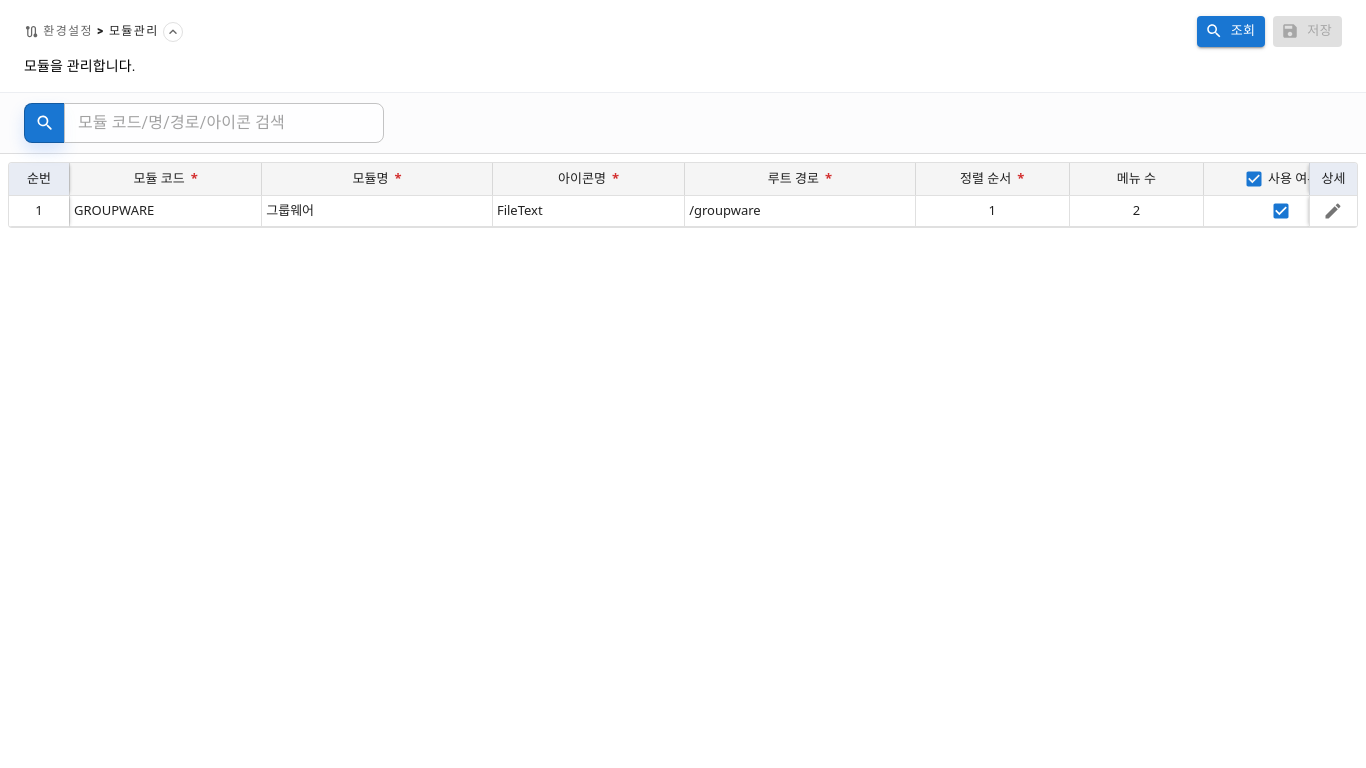
Test: ModuleManagementPage › guards a dirty module grid refresh with the shared confirmation dialog
Double-click the cell "그룹웨어" at (377, 211), box x1=261 y1=195 x2=492 y2=227
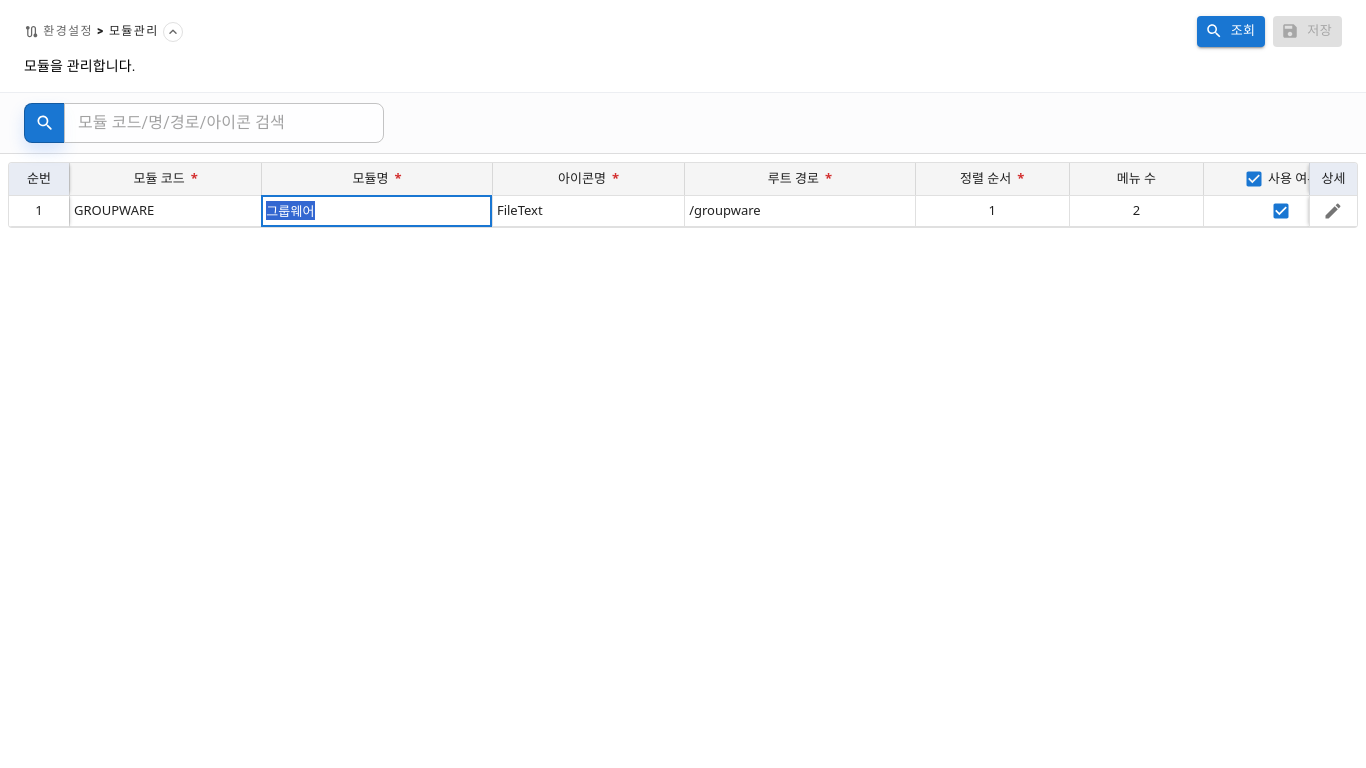
Replace the text in the field showing "그룹웨어" with "그룹웨어 편집" at (377, 211), box x1=266 y1=200 x2=488 y2=222
Press Enter in the field showing "그룹웨어 편집", box x1=266 y1=200 x2=488 y2=222
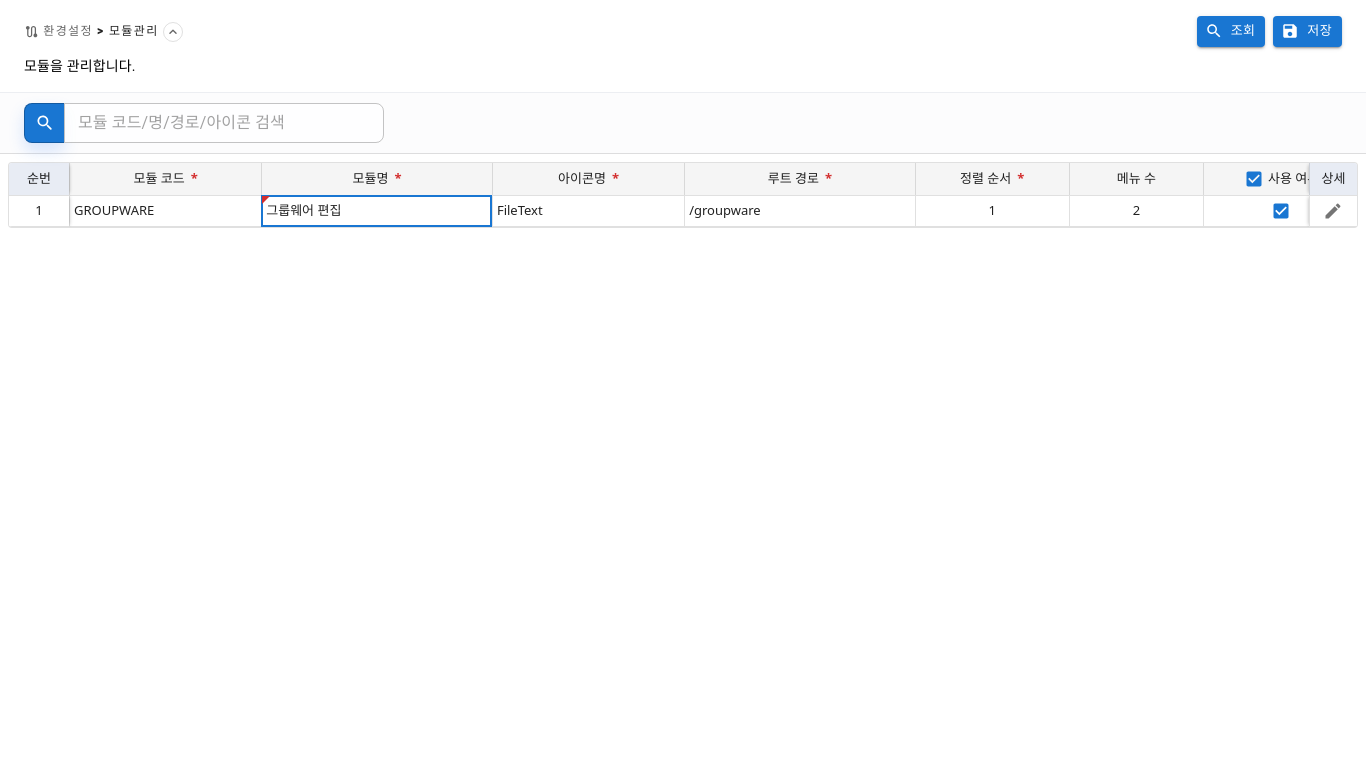
Click the button "조회" at (1231, 31), box x1=1197 y1=16 x2=1265 y2=47
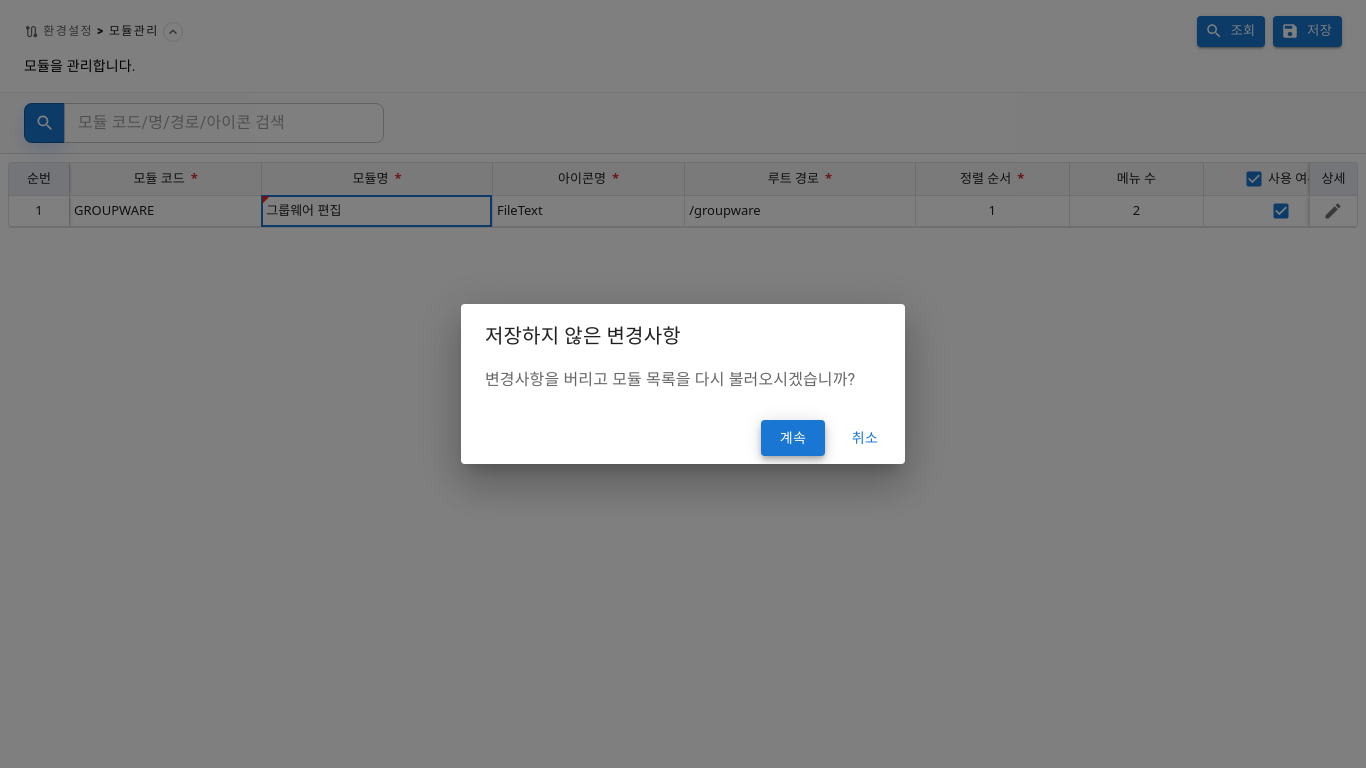
Expected: the dialog "저장하지 않은 변경사항" shows "변경사항을 버리고 모듈 목록을 다시 불러오시겠습니까?", x1=485 y1=370 x2=855 y2=389
Click the button "취소" at (865, 438), box x1=833 y1=420 x2=897 y2=456
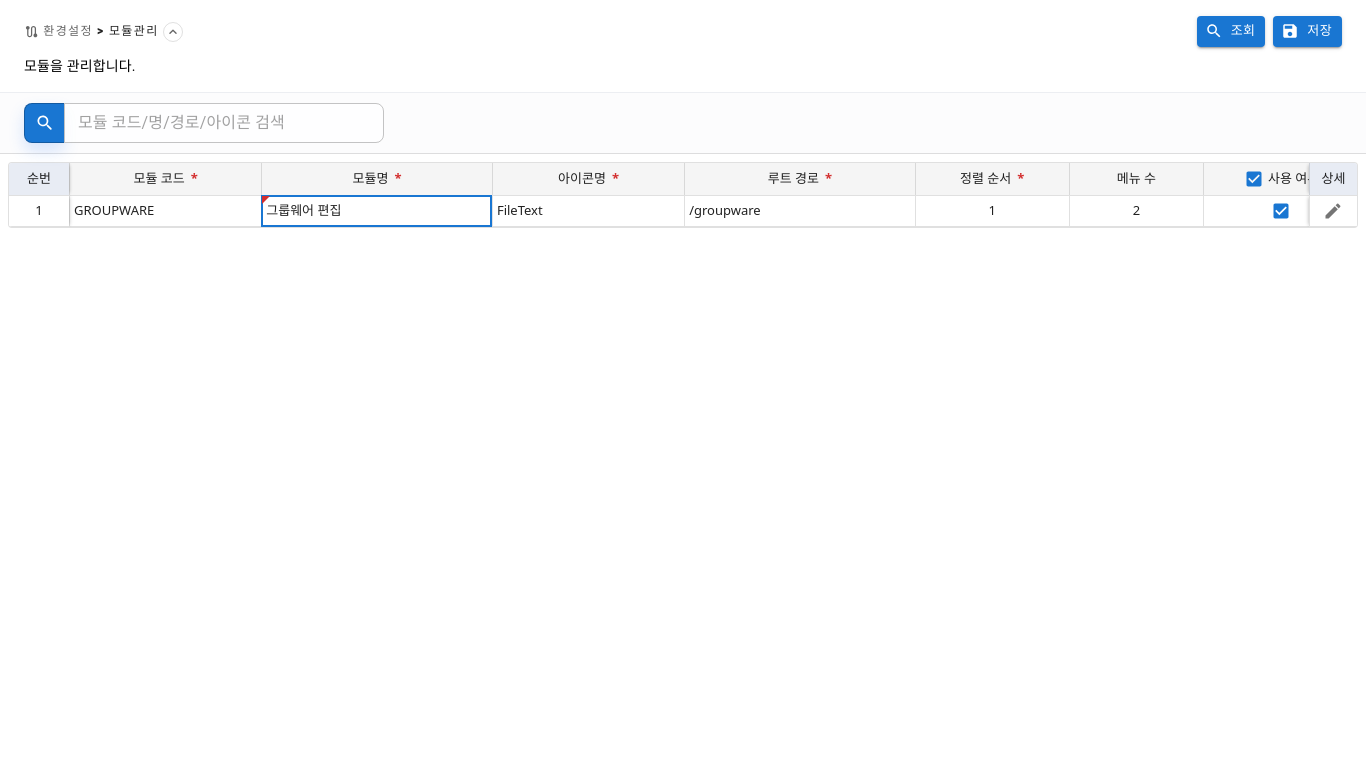
Expected: the cell "그룹웨어 편집" is shown, x1=262 y1=196 x2=341 y2=219
Expected: the heading "저장하지 않은 변경사항" is gone
Click the button "조회" at (1231, 31), box x1=1197 y1=16 x2=1265 y2=47
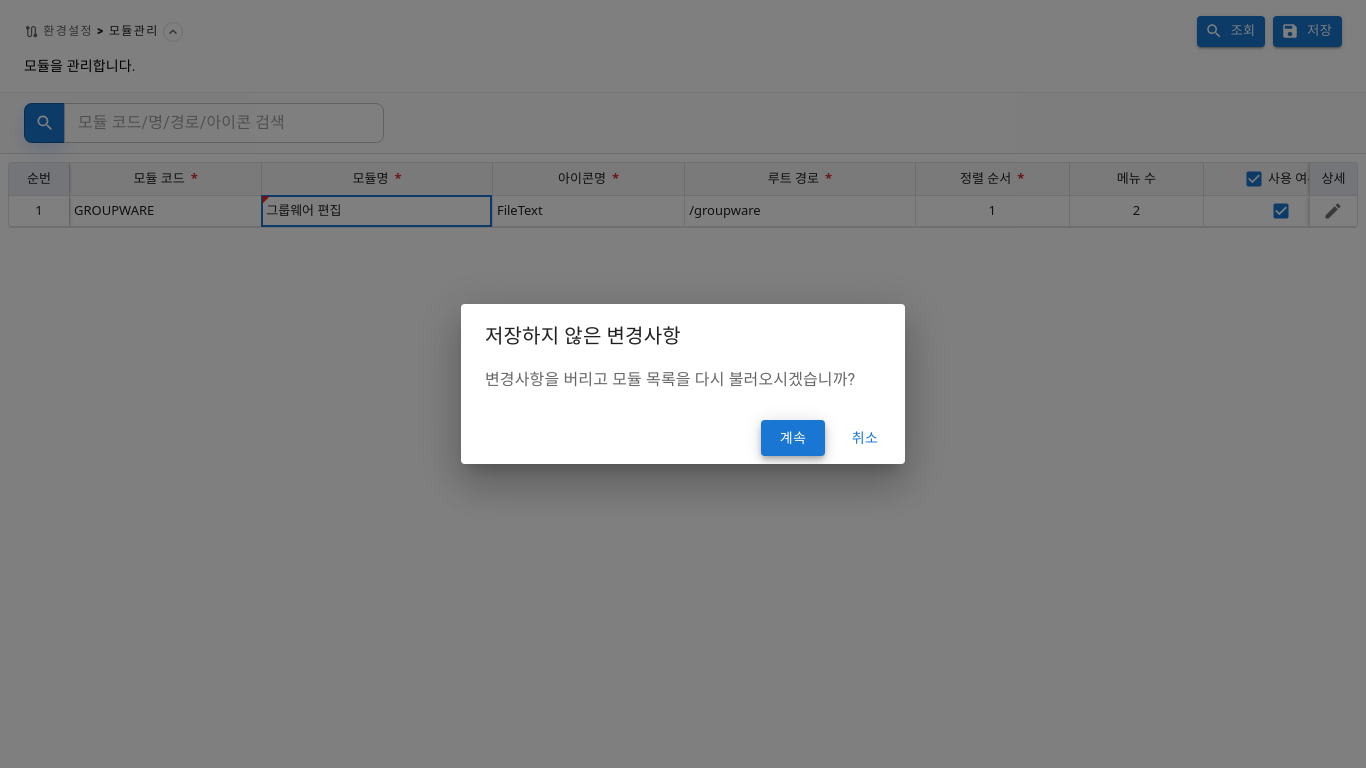
Click the button "계속" at (793, 438), box x1=761 y1=420 x2=825 y2=456
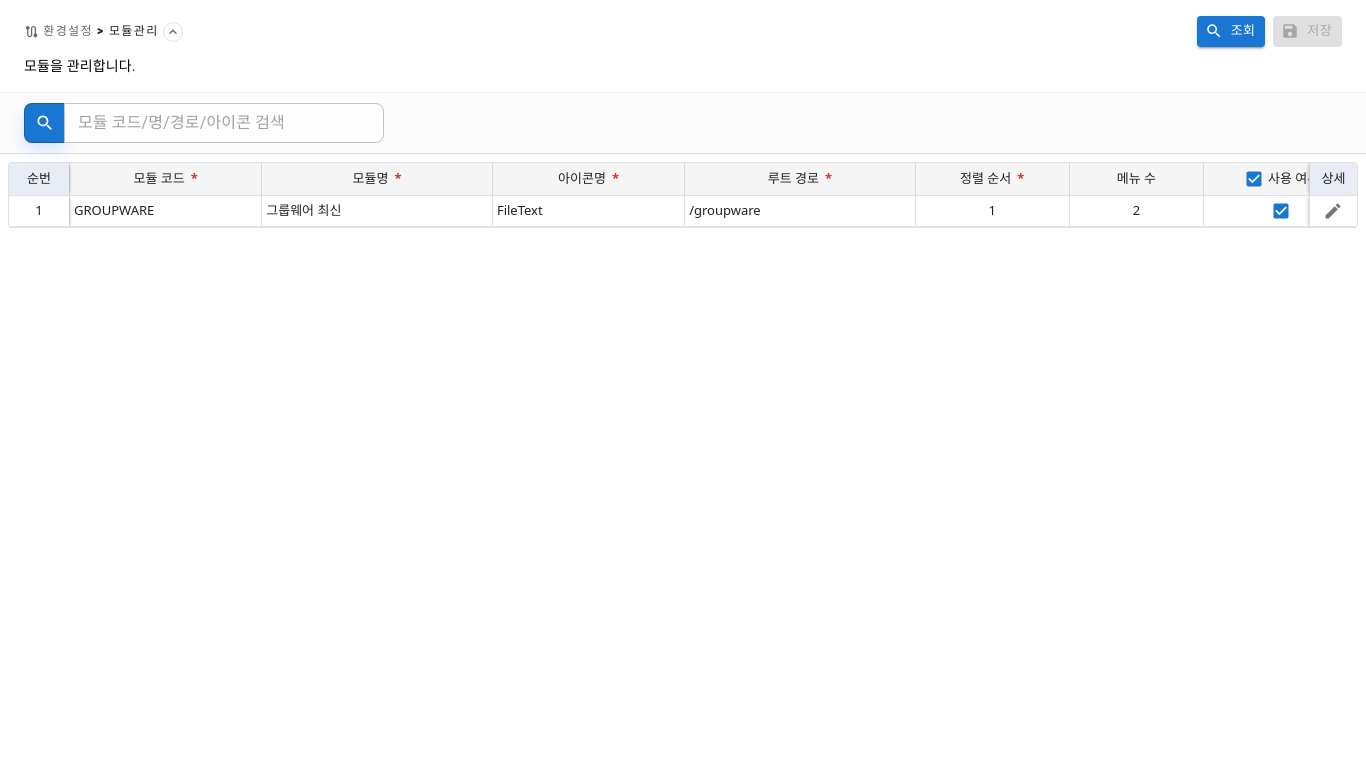
Expected: the cell "그룹웨어 최신" is shown, x1=261 y1=195 x2=492 y2=227
